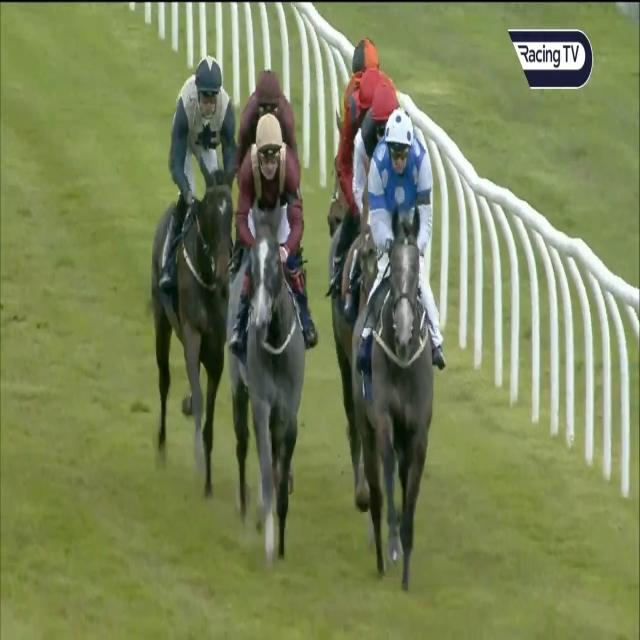horses-racing: (350, 104, 442, 616), (229, 131, 321, 576), (149, 52, 231, 498), (220, 54, 314, 179), (342, 90, 428, 216), (329, 28, 408, 103), (337, 67, 393, 134)
